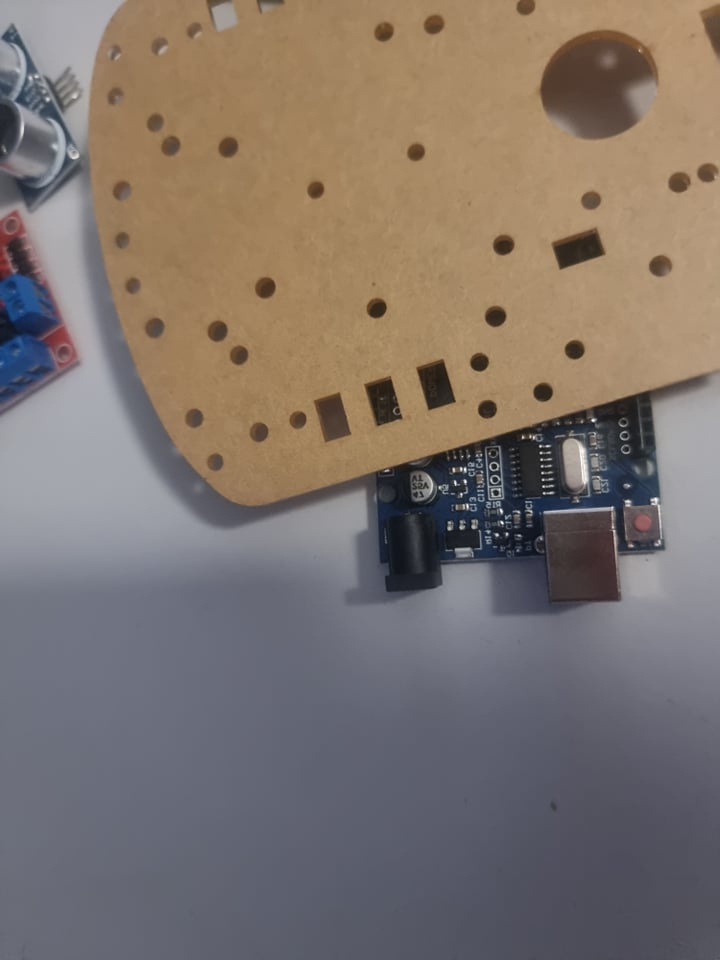UNO R3: (364, 388, 667, 602)
